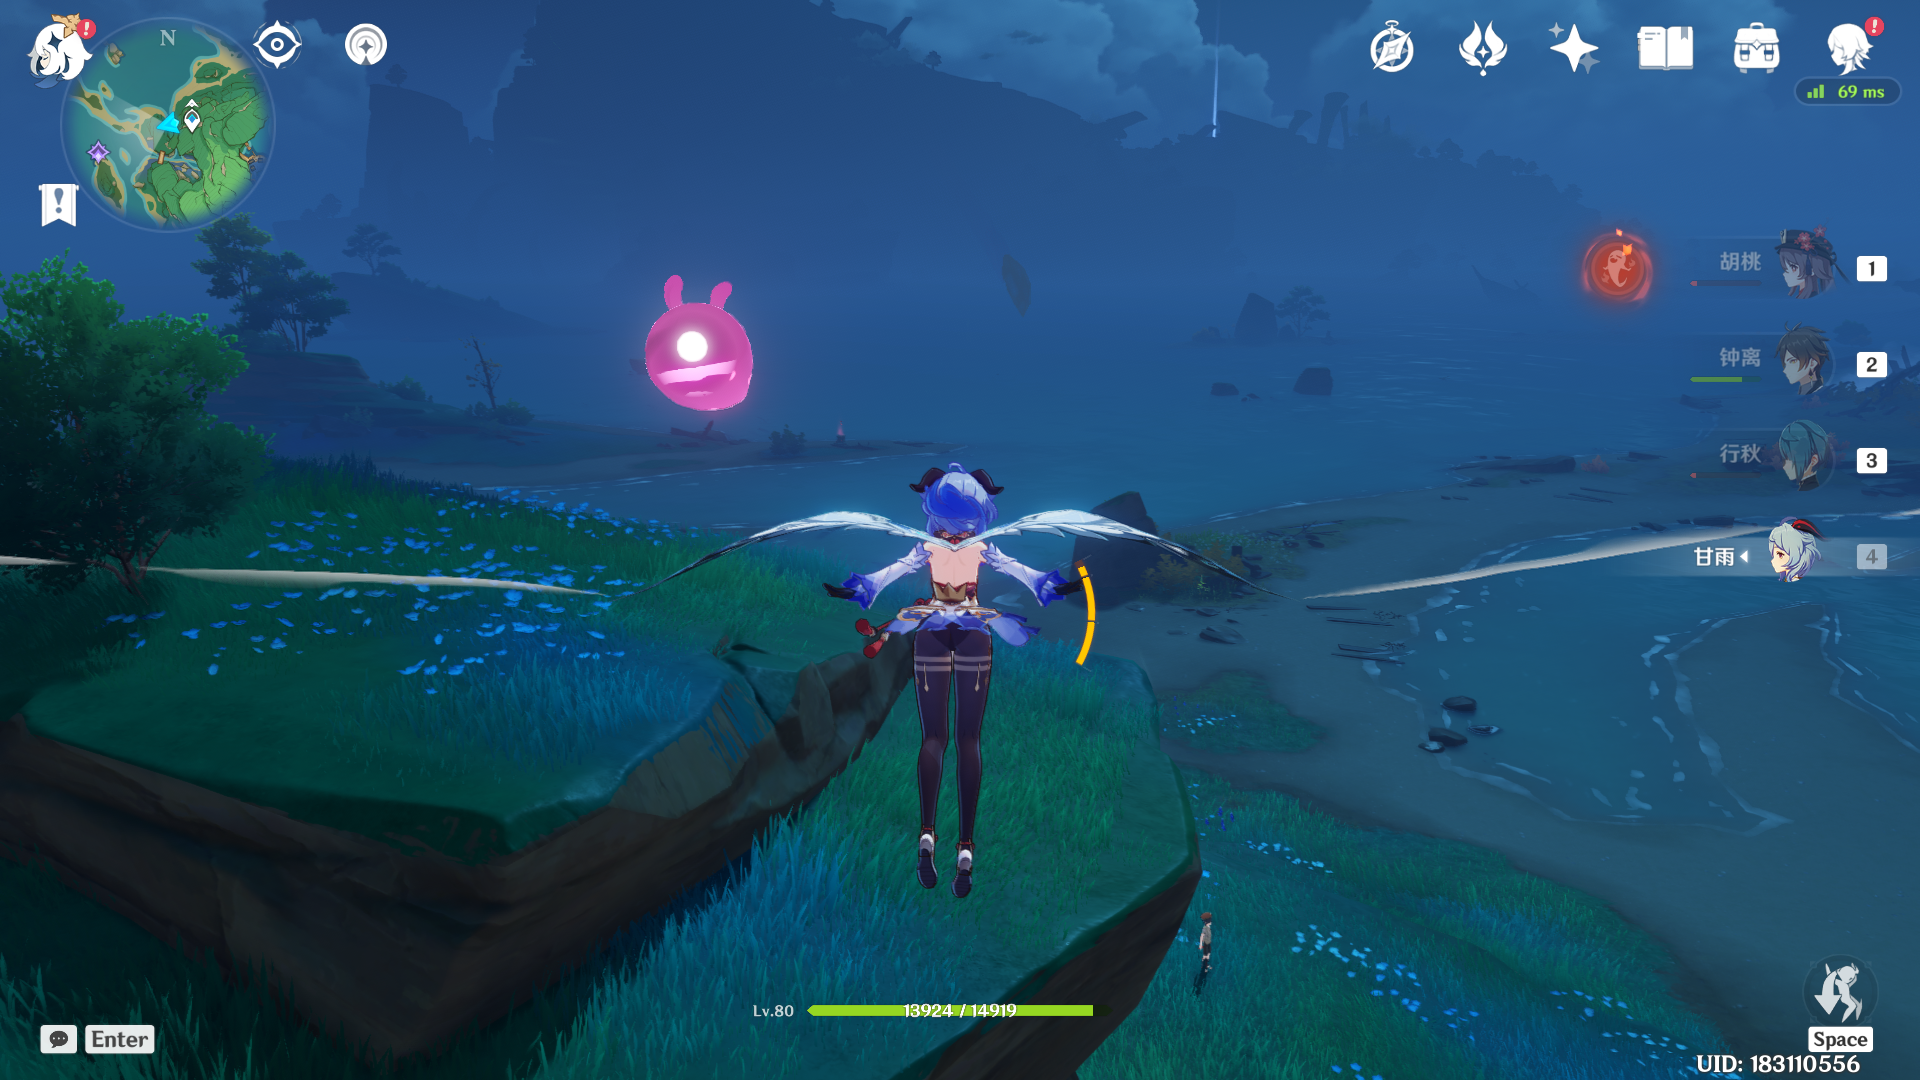character: (777, 435, 1120, 916)
